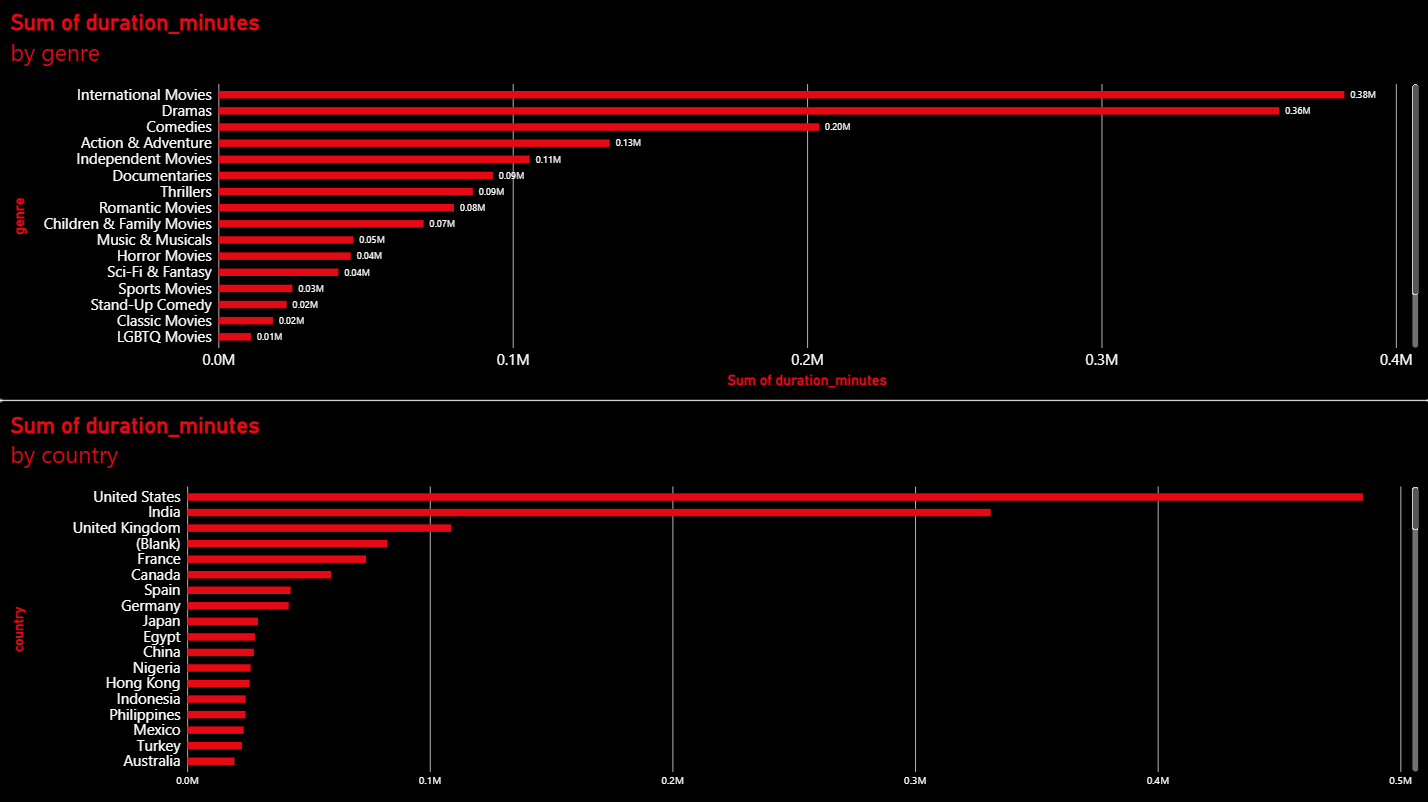

The dashboard page shown, as its layout file describes it:
{"tool":"powerbi","page":{"name":"Duration","canvas":[1920,1080],"ordinal":4},"visuals":[{"type":"clusteredBarChart","fields":{"Category":["netflix_titles.genre"],"Y":["Sum(netflix_titles.duration_minutes)"]},"box":[0,0,1920.4,539.3],"z":0},{"type":"clusteredBarChart","fields":{"Category":["netflix_titles.country"],"Y":["Sum(netflix_titles.duration_minutes)"]},"box":[0,539.3,1920.4,541.3],"z":1000}]}

Visuals, with their boxes in screenshot pixels (x1, y1, x2, y2), scaled from the page's 1920x1080 canvas onto the 1428x802 screenshot:
clusteredBarChart - netflix_titles.genre x Sum(netflix_titles.duration_minutes): BBox(0, 0, 1427, 400)
clusteredBarChart - netflix_titles.country x Sum(netflix_titles.duration_minutes): BBox(0, 400, 1427, 801)
